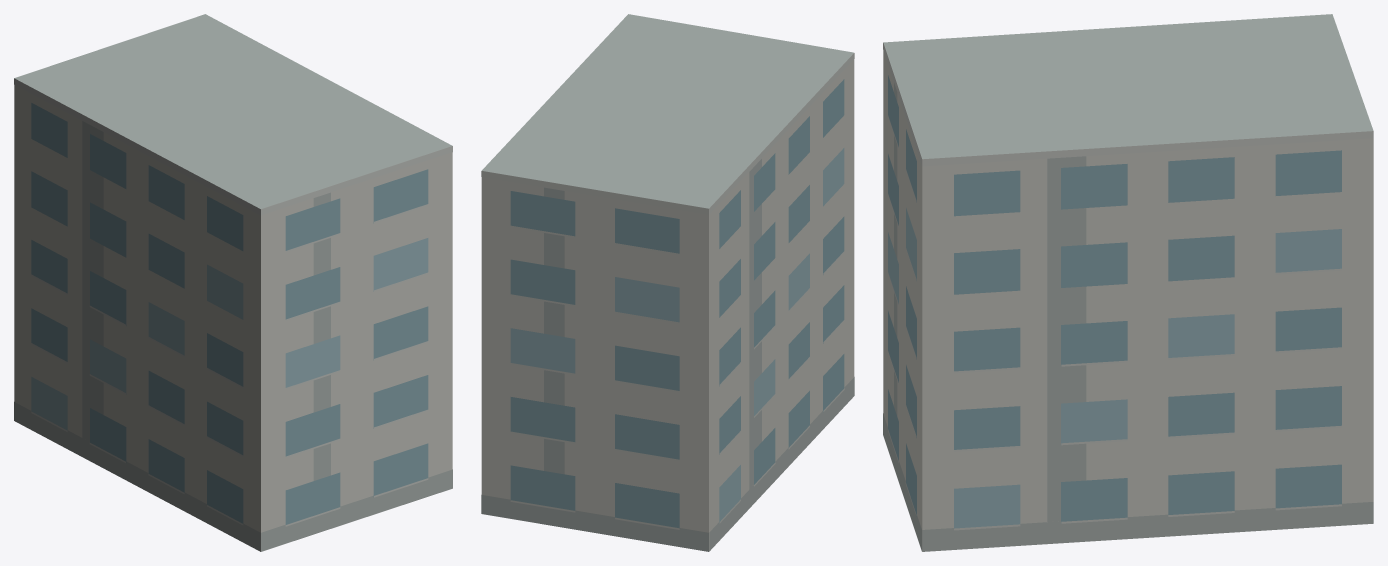
Rendered from survey-upis-32719568.glb.
3 renders of one model, left to right at view 1: azimuth 30°, elevation 25°; view 2: azimuth 150°, elevation 25°; view 3: azimuth 270°, elevation 25°, orthographic. The views are drawn at different scales.
Visible parts, largest first — view 1: survey-upis-32719568.tmp; view 2: survey-upis-32719568.tmp; view 3: survey-upis-32719568.tmp.
Boxes of the visible parts, x1,y1,x2,y2 form: survey-upis-32719568.tmp: (14,14,452,551); survey-upis-32719568.tmp: (481,14,854,551); survey-upis-32719568.tmp: (883,14,1373,551).
Bounding box in the file's own units: 10.48 × 13.2 × 14.95.
